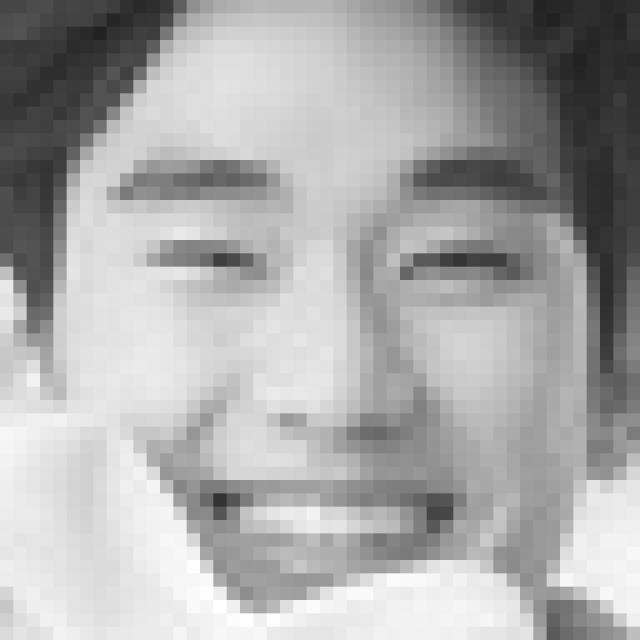happy: (107, 148, 578, 586)
